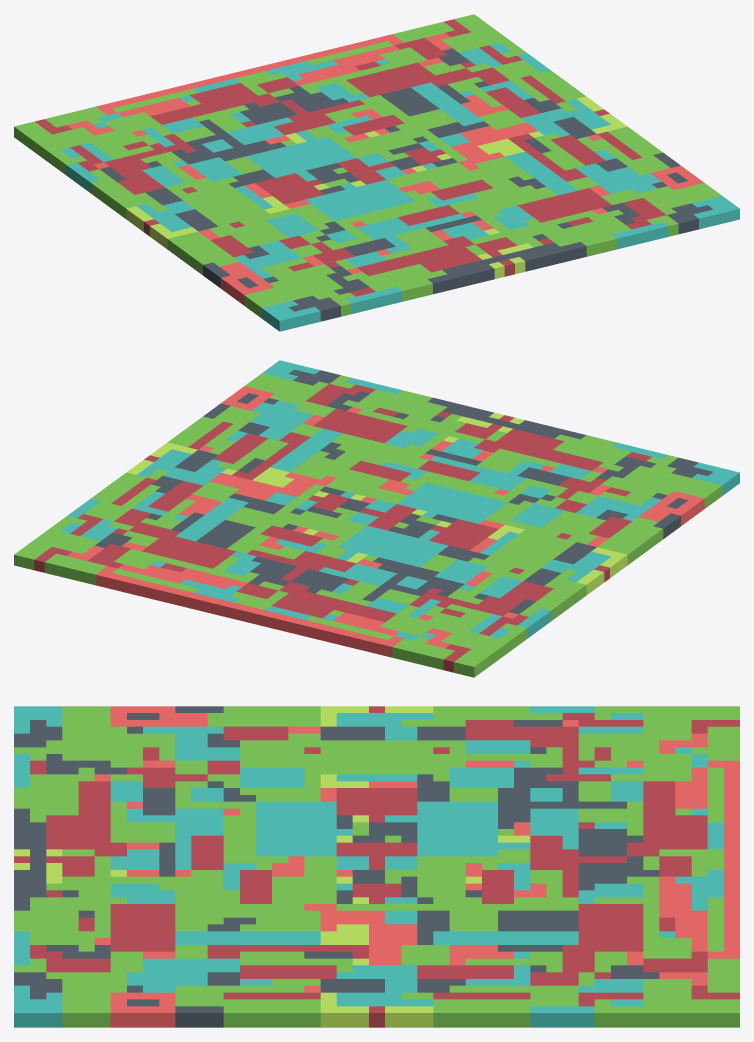
File: floor.obj
The picture shows the model from 3 angles, top to bottom: view 1: azimuth 30°, elevation 25°; view 2: azimuth 150°, elevation 25°; view 3: azimuth 270°, elevation 25°; orthographic projection. The views are drawn at different scales.
Bounding box in the file's own units: 45 × 1 × 45.
